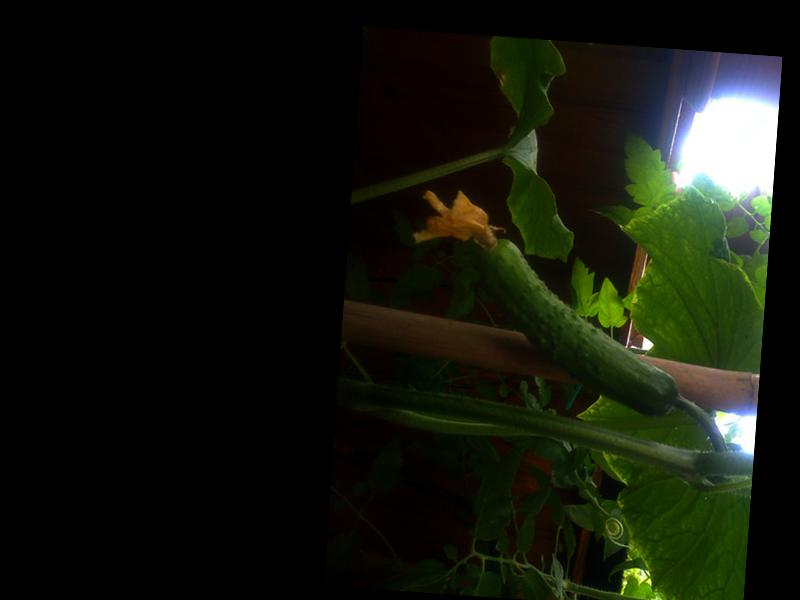Cucumber: (400, 185, 690, 417)
